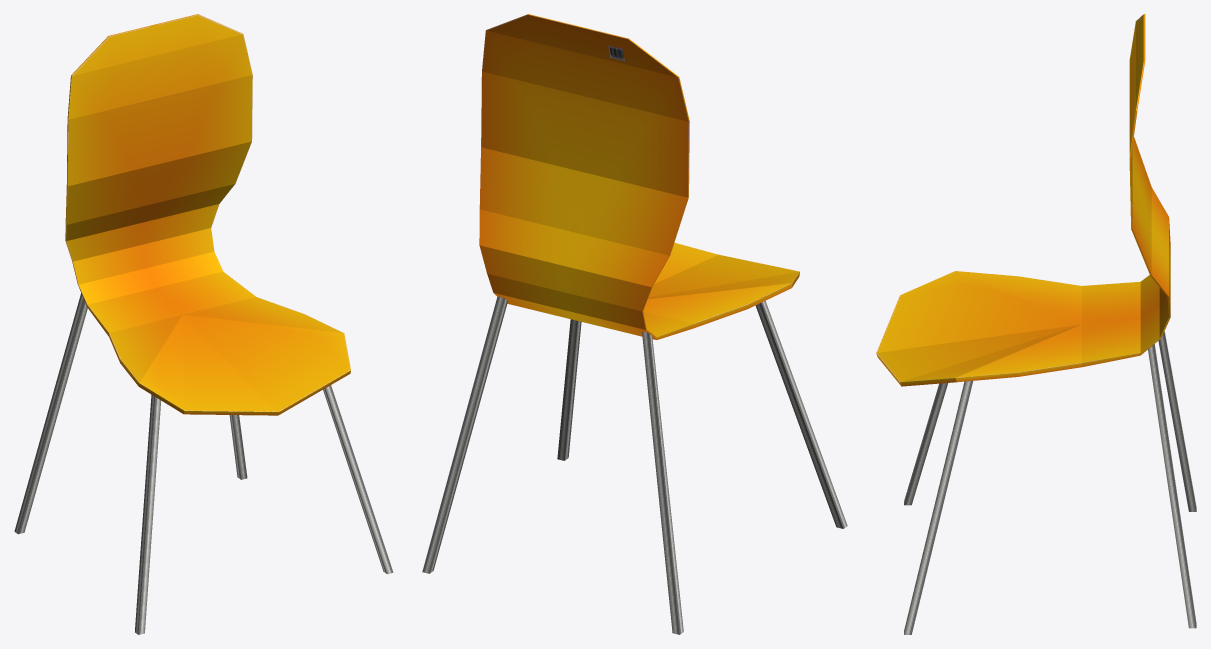
The model's file is chair_70th.obj.
3 views of the same model, side by side, from view 1: azimuth 30°, elevation 25°; view 2: azimuth 150°, elevation 25°; view 3: azimuth 270°, elevation 25° (orthographic). The views are drawn at different scales.
Bounding box in the file's own units: 1.99 × 3.7 × 2.03.
Materials: 1 (1 with a texture image).
